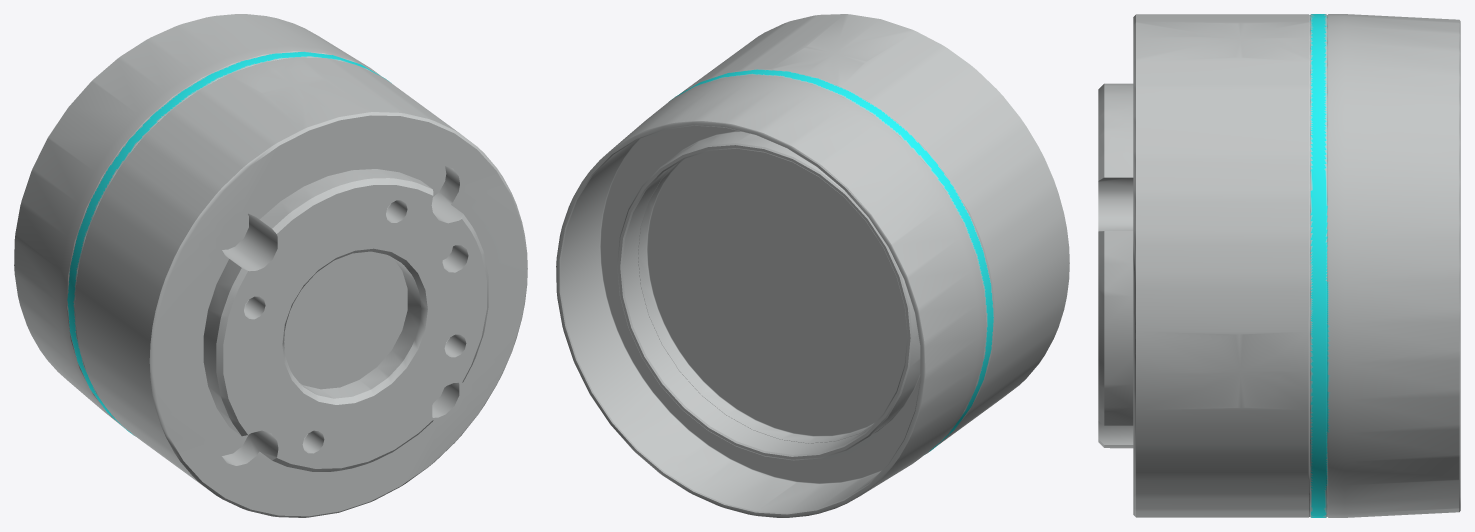
Rendered from Link6_body.glb.
3 views of the same model, side by side, from view 1: azimuth 30°, elevation 25°; view 2: azimuth 150°, elevation 25°; view 3: azimuth 270°, elevation 25° (orthographic). The views are drawn at different scales.
Parts seen in each view (by area): view 1: Link6_body.STL; view 2: Link6_body.STL; view 3: Link6_body.STL.
Part boxes in pixels (<box>): Link6_body.STL: <box>14,14,527,517</box>; Link6_body.STL: <box>556,14,1069,517</box>; Link6_body.STL: <box>1098,14,1460,517</box>.
Size of the model in its own units: 0.087 by 0.087 by 0.0625.
1 material, 1 textured.
